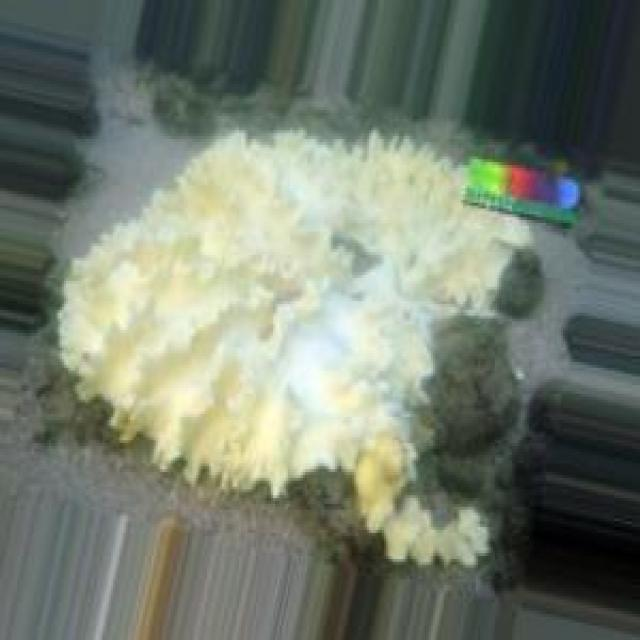Bleached: (62, 133, 529, 564)
